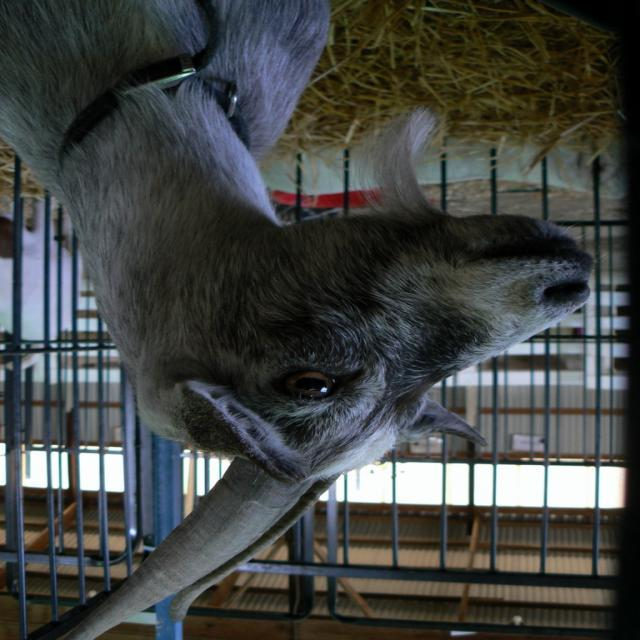Goat: (2, 2, 597, 639)
